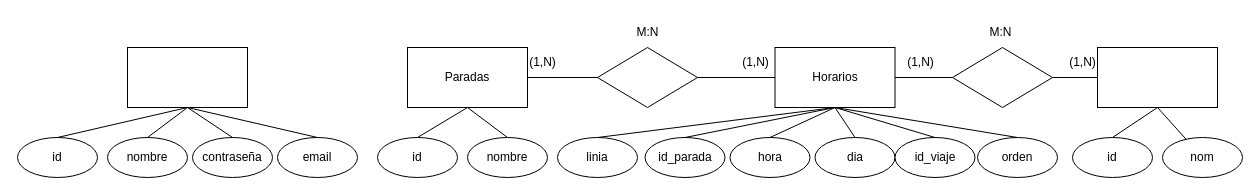
Some shapes in this 1260 by 195 pixel diagram are drawn without their labels. The shapes that lost their labels are listed below. From the top down, each one's centre as x and y in pixels, then its label:
pixel 187 77: Usuarios
pixel 647 77: Intinerario
pixel 1002 77: Programados
pixel 1157 77: Lineas
